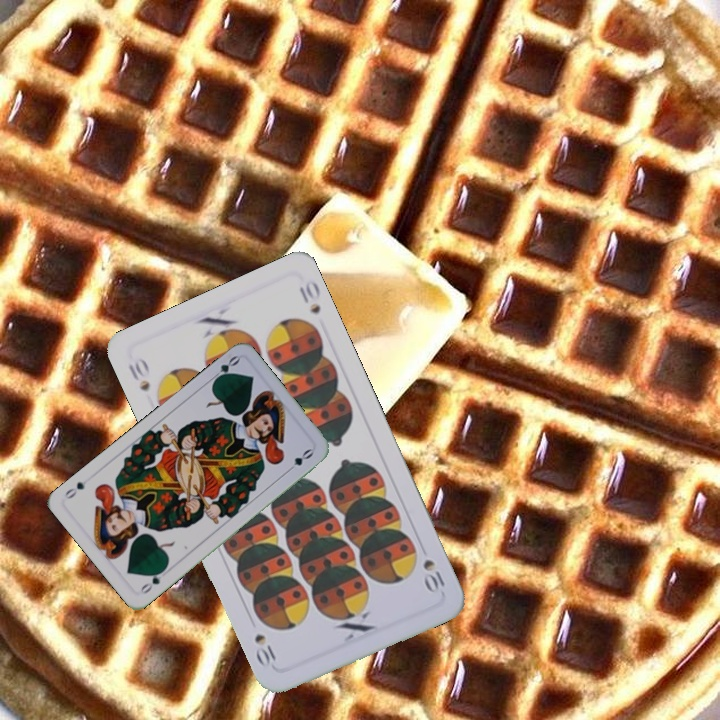GO: (206, 351, 242, 385), (136, 564, 168, 597)
S10: (419, 555, 448, 597), (124, 353, 153, 394)
